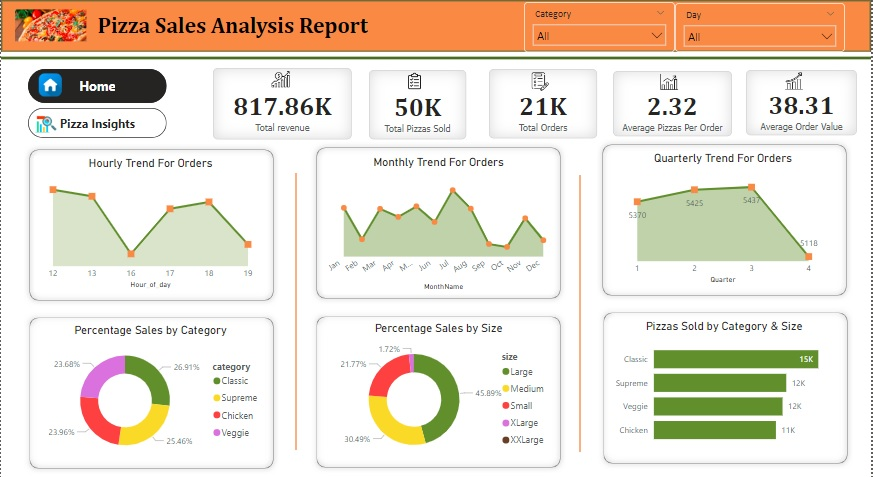

Layout of this report page (visuals, bound fields, positions):
{"tool":"powerbi","page":{"name":"Home","canvas":[1280,720],"ordinal":0},"visuals":[{"type":"shape","box":[0,1.5,1280,76.5],"z":0},{"type":"shape","box":[877.7,453.9,375.2,238.3],"z":0,"group":"g6"},{"type":"textbox","box":[136.8,14.7,485.5,48.6],"z":1000},{"type":"clusteredBarChart","title":"Pizzas Sold by Category & Size","fields":{"Category":["pizza_types.category","pizzas.size"],"Y":["Sum(order_details.quantity)"]},"box":[893.8,470.8,338.4,196.8],"z":1000,"group":"g6"},{"type":"image","box":[14.7,10.3,116.2,57.4],"z":2000},{"type":"shape","box":[0,78,1280,17.7],"z":3000},{"type":"shape","box":[0,696.1,1280,23.9],"z":4000},{"type":"shape","box":[844.4,259.3,14.7,407.5],"z":5000},{"type":"shape","box":[426.6,256.4,14.7,407.5],"z":6000},{"type":"slicer","fields":{"Values":["pizza_types.category"]},"box":[769.5,4.4,222.2,73.6],"z":7000},{"type":"slicer","fields":{"Values":["orders.DayName"]},"box":[991.3,5.5,250.1,71.7],"z":8000},{"type":"card","fields":{"Values":["Key Measures.Total revenue"]},"box":[312,101.1,204.1,104.8],"z":9000},{"type":"shape","box":[456,458.4,375.2,238.3],"z":9000,"group":"g4"},{"type":"group","id":"g1","title":"Group 1","box":[33.7,212.8,375.2,238.3],"z":10000},{"type":"shape","box":[33.7,212.8,375.2,238.3],"z":10000,"group":"g1"},{"type":"group","id":"g2","title":"Group 2","box":[40,205.7,1211.8,458.3],"z":11000},{"type":"shape","box":[456,210.8,375.2,238.3],"z":11000,"group":"g5"},{"type":"shape","box":[876.7,205.7,375.2,238.3],"z":12000,"group":"g2"},{"type":"group","id":"g3","title":"Group 3","box":[33.5,460.2,375.2,238.3],"z":12000},{"type":"group","id":"g4","title":"Group 4","box":[456,458.4,375.2,238.3],"z":13000},{"type":"shape","box":[33.5,460.2,375.2,238.3],"z":13000,"group":"g3"},{"type":"group","id":"g5","title":"Group 5","box":[456,210.8,375.2,238.3],"z":14000},{"type":"donutChart","title":"Percentage Sales by Category","fields":{"Category":["pizza_types.category"],"Y":["Key Measures.Total revenue"]},"box":[48.9,476.4,342.8,208.9],"z":14001,"group":"g3"},{"type":"donutChart","title":"Percentage Sales by Size","fields":{"Category":["pizzas.size"],"Y":["Key Measures.Total revenue"]},"box":[474.1,473.4,339.9,211.9],"z":14002,"group":"g4"},{"type":"areaChart","title":"Monthly Trend For Orders","fields":{"Y":["Key Measures.Total Orders"],"Category":["orders.MonthName"]},"box":[473.7,229.9,339.9,204.5],"z":14004,"group":"g5"},{"type":"areaChart","title":"Hourly Trend For Orders","fields":{"Y":["Key Measures.Total Orders"],"Category":["orders.Hour_of_day"]},"box":[49.1,230.5,342.8,200.1],"z":14005,"group":"g1"},{"type":"lineChart","title":"Quarterly Trend For Orders","fields":{"Category":["orders.Quarter"],"Y":["Key Measures.Total Orders"]},"box":[897.8,223.4,329.6,200.1],"z":14006,"group":"g2"},{"type":"card","fields":{"Values":["Key Measures.Total Pizzas Sold"]},"box":[541.4,104.5,142.7,101.5],"z":15000},{"type":"card","fields":{"Values":["Key Measures.Average Order Value"]},"box":[1096.1,104.5,163.3,95.6],"z":16000},{"type":"card","fields":{"Values":["Key Measures.Average Pizzas Sold Per Order"]},"box":[900.4,105.9,175.1,95.6],"z":17000},{"type":"card","fields":{"Values":["Key Measures.Total Orders"]},"box":[718,103,158.9,101.5],"z":18000},{"type":"group","id":"g6","title":"Group 6","box":[877.7,453.9,375.2,238.3],"z":19000},{"type":"pageNavigator","box":[39.7,103,204.5,50],"z":20000},{"type":"pageNavigator","box":[39.7,160.4,204.5,44.1],"z":21000},{"type":"image","box":[48.6,104.5,47.1,44.1],"z":22000},{"type":"image","box":[390.9,92.6,39,51.2],"z":23000},{"type":"image","box":[591.4,95.6,34,49],"z":24000},{"type":"image","box":[773.9,103,38,37],"z":25000},{"type":"image","box":[45.6,158.9,41.2,50],"z":26000},{"type":"image","box":[965.5,103,36,38],"z":27000},{"type":"image","box":[1149.7,103.5,35.3,35.3],"z":28000},{"type":"textbox","box":[40,511,356,153],"z":31001,"group":"g2"}]}

Visuals, with their boxes in screenshot pixels (x1, y1, x2, y2), scaled from the page's 1280x720 canvas onto the 873x477 screenshot:
shape: [x1=0, y1=1, x2=872, y2=52]
shape: [x1=599, y1=301, x2=855, y2=459]
textbox: [x1=93, y1=10, x2=424, y2=42]
"Pizzas Sold by Category & Size" clusteredBarChart: [x1=610, y1=312, x2=840, y2=442]
image: [x1=10, y1=7, x2=89, y2=45]
shape: [x1=0, y1=52, x2=872, y2=63]
shape: [x1=0, y1=461, x2=872, y2=476]
shape: [x1=576, y1=172, x2=586, y2=442]
shape: [x1=291, y1=170, x2=301, y2=440]
slicer - pizza_types.category: [x1=525, y1=3, x2=676, y2=52]
slicer - orders.DayName: [x1=676, y1=4, x2=847, y2=51]
card - Key Measures.Total revenue: [x1=213, y1=67, x2=352, y2=136]
shape: [x1=311, y1=304, x2=567, y2=462]
"Group 1" group: [x1=23, y1=141, x2=279, y2=299]
shape: [x1=23, y1=141, x2=279, y2=299]
"Group 2" group: [x1=27, y1=136, x2=854, y2=440]
shape: [x1=311, y1=140, x2=567, y2=298]
shape: [x1=598, y1=136, x2=854, y2=294]
"Group 3" group: [x1=23, y1=305, x2=279, y2=463]
"Group 4" group: [x1=311, y1=304, x2=567, y2=462]
shape: [x1=23, y1=305, x2=279, y2=463]
"Group 5" group: [x1=311, y1=140, x2=567, y2=298]
"Percentage Sales by Category" donutChart: [x1=33, y1=316, x2=267, y2=454]
"Percentage Sales by Size" donutChart: [x1=323, y1=314, x2=555, y2=454]
"Monthly Trend For Orders" areaChart: [x1=323, y1=152, x2=555, y2=288]
"Hourly Trend For Orders" areaChart: [x1=33, y1=153, x2=267, y2=285]
"Quarterly Trend For Orders" lineChart: [x1=612, y1=148, x2=837, y2=281]
card - Key Measures.Total Pizzas Sold: [x1=369, y1=69, x2=467, y2=136]
card - Key Measures.Average Order Value: [x1=748, y1=69, x2=859, y2=133]
card - Key Measures.Average Pizzas Sold Per Order: [x1=614, y1=70, x2=734, y2=133]
card - Key Measures.Total Orders: [x1=490, y1=68, x2=598, y2=135]
"Group 6" group: [x1=599, y1=301, x2=855, y2=459]
pageNavigator: [x1=27, y1=68, x2=167, y2=101]
pageNavigator: [x1=27, y1=106, x2=167, y2=135]
image: [x1=33, y1=69, x2=65, y2=98]
image: [x1=267, y1=61, x2=293, y2=95]
image: [x1=403, y1=63, x2=427, y2=96]
image: [x1=528, y1=68, x2=554, y2=93]
image: [x1=31, y1=105, x2=59, y2=138]
image: [x1=659, y1=68, x2=683, y2=93]
image: [x1=784, y1=69, x2=808, y2=92]
textbox: [x1=27, y1=339, x2=270, y2=440]
